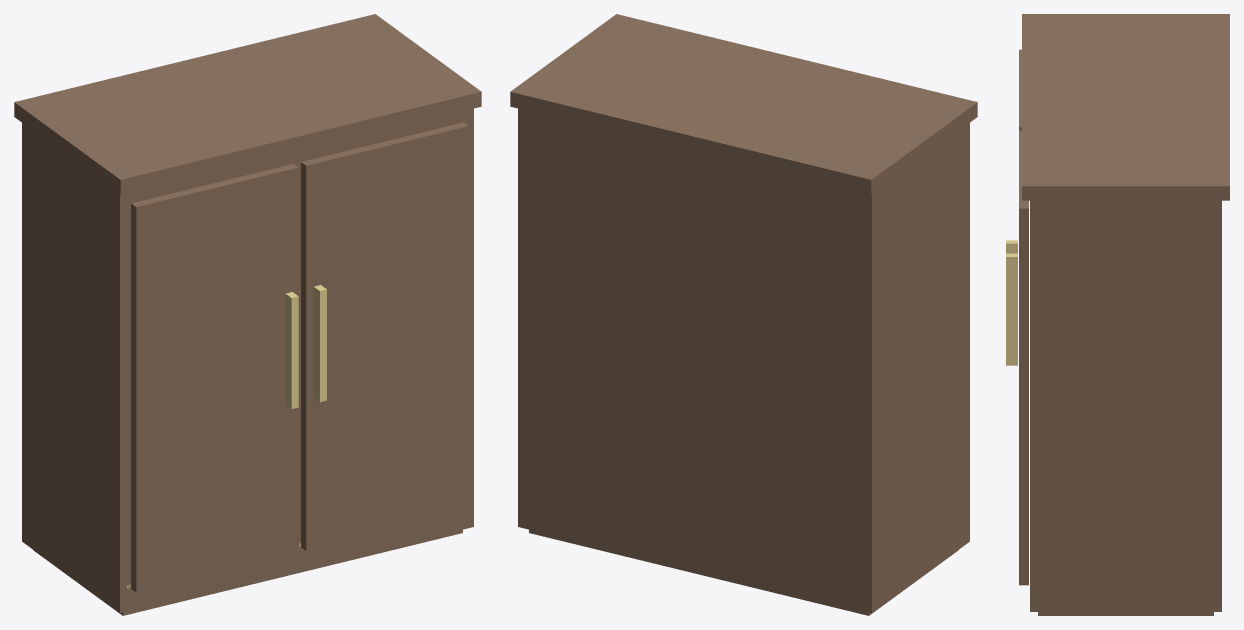
The model's file is OFFICE_CABINET001.glb.
3 views of the same model, side by side, from view 1: azimuth 30°, elevation 25°; view 2: azimuth 150°, elevation 25°; view 3: azimuth 270°, elevation 25° (orthographic). The views are drawn at different scales.
Visible parts, largest first — view 1: FurnitureRoot; view 2: FurnitureRoot; view 3: FurnitureRoot.
Boxes of the visible parts, box(x1,y1,x2,y2) form: FurnitureRoot: box(14, 14, 481, 615); FurnitureRoot: box(510, 14, 977, 615); FurnitureRoot: box(1006, 14, 1229, 615).
Size of the model in its own units: 102 by 120 by 56.
